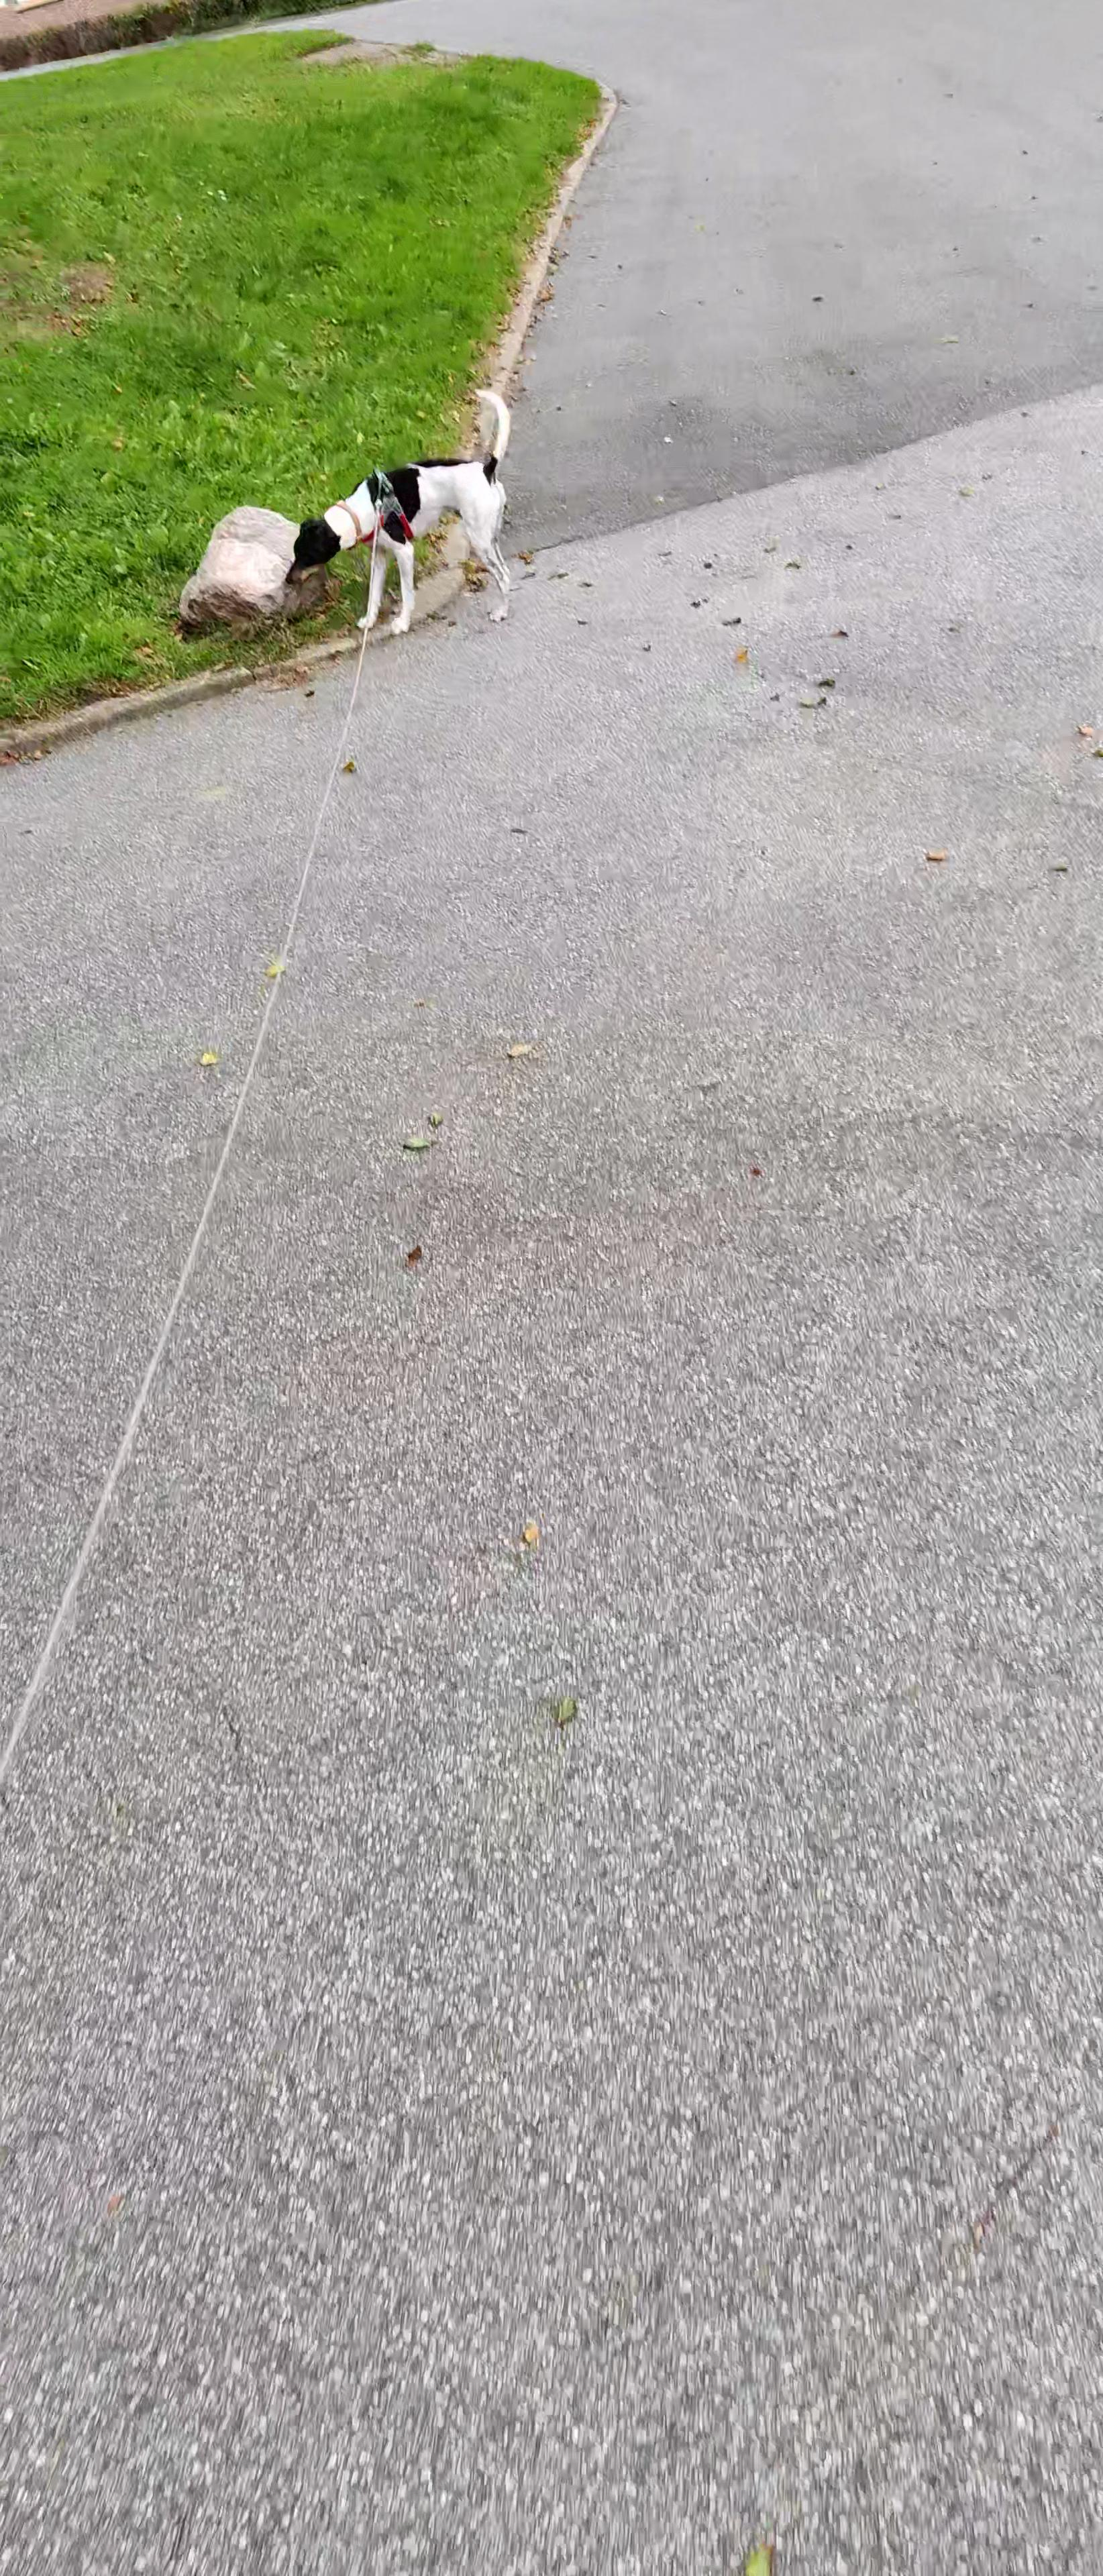Dog: (281, 386, 515, 637)
